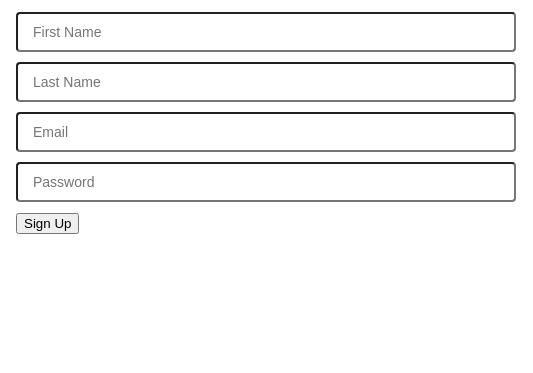
Test: SignUpForm component › shows required error messages when form submitted
The image size is (533, 373).
Click the button "Sign Up": click(48, 224) [16,213,79,234]
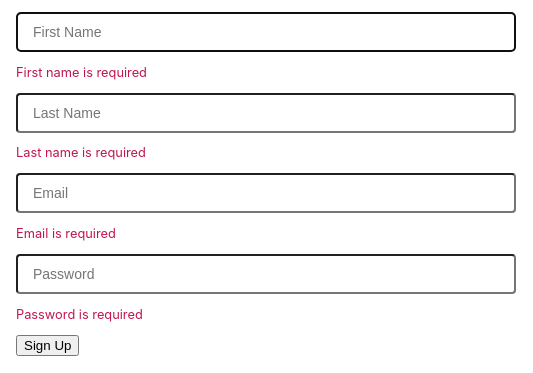
Expected: the text "First name is required" is shown, [16,65,147,80]
Expected: the text "Last name is required" is shown, [16,145,146,160]
Expected: the text "Email is required" is shown, [16,226,116,241]
